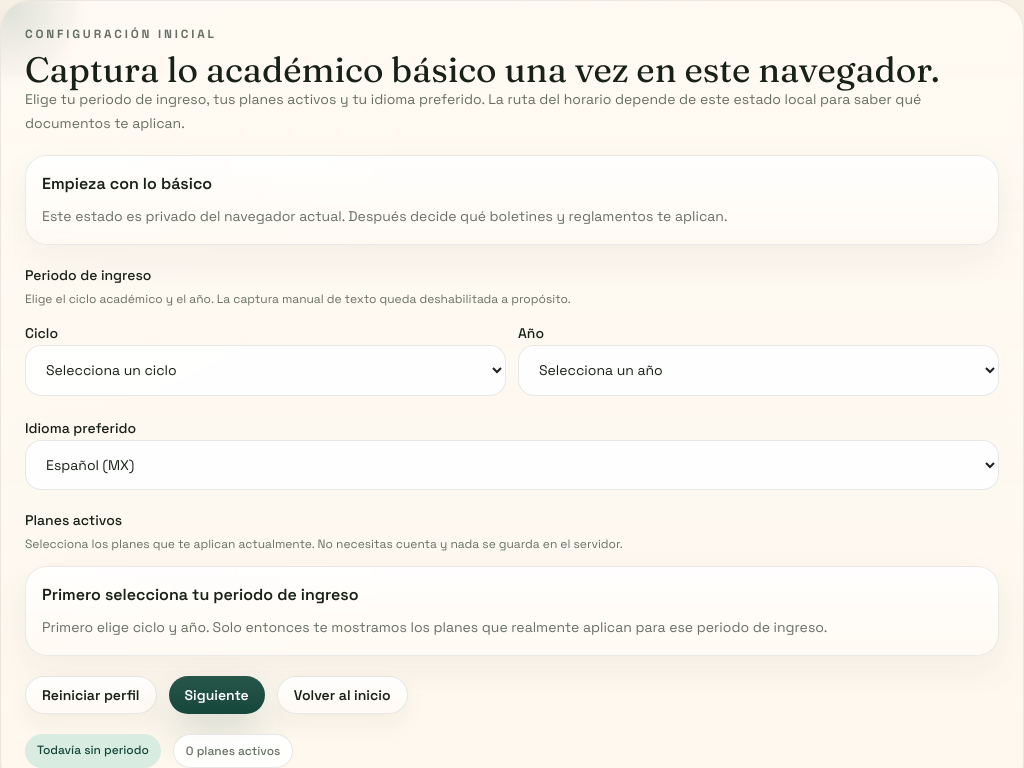
Test: OnboardingPanel › blocks planner navigation until the required selectors and plans are complete
The image size is (1024, 768).
Click the button "Siguiente".
click(217, 696)  # box [168,676,265,714]
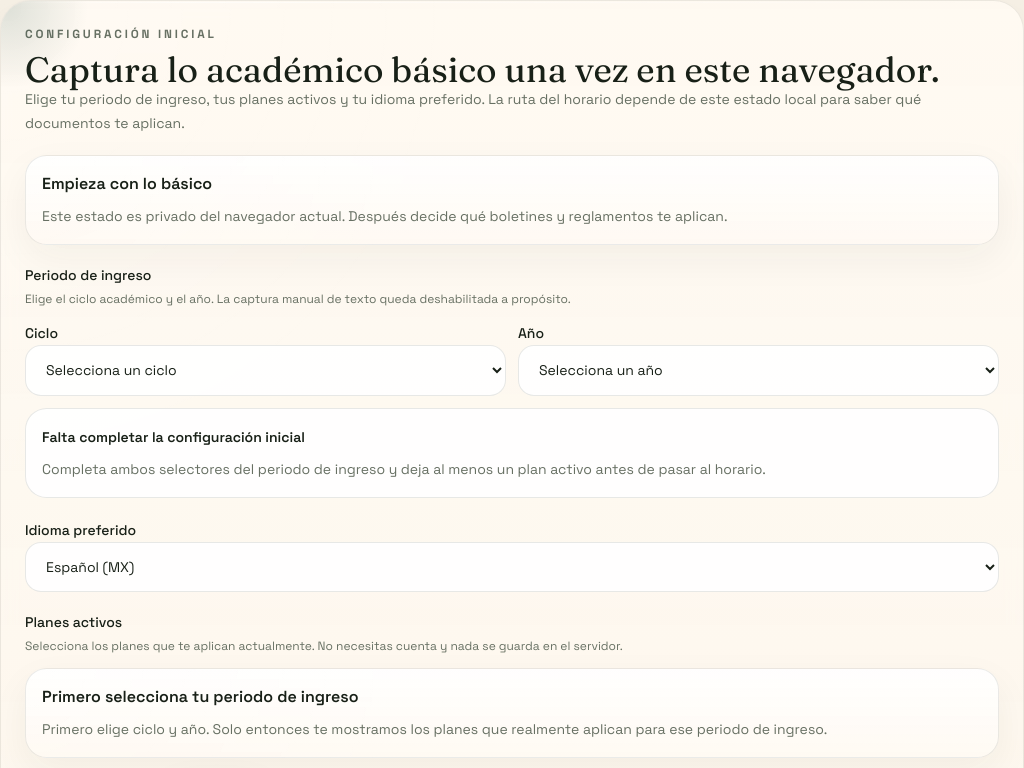
expect the text "Falta completar la configuración inicial" is shown: met, box [42,428,305,446]
